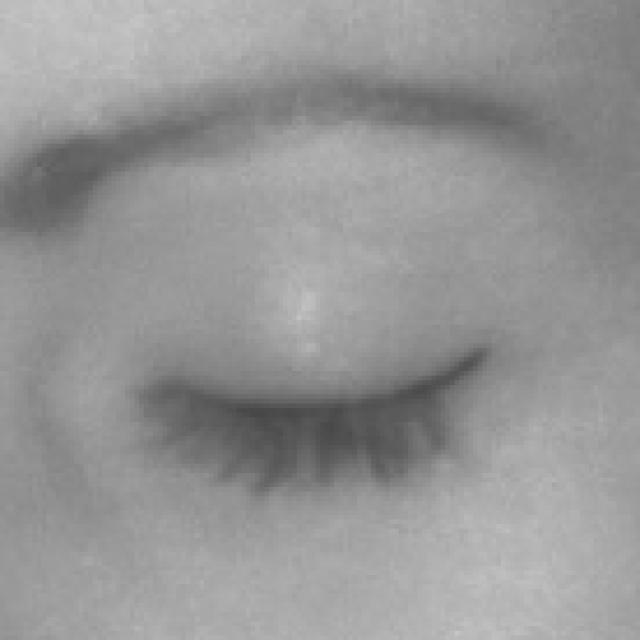close: (8, 44, 628, 606)
